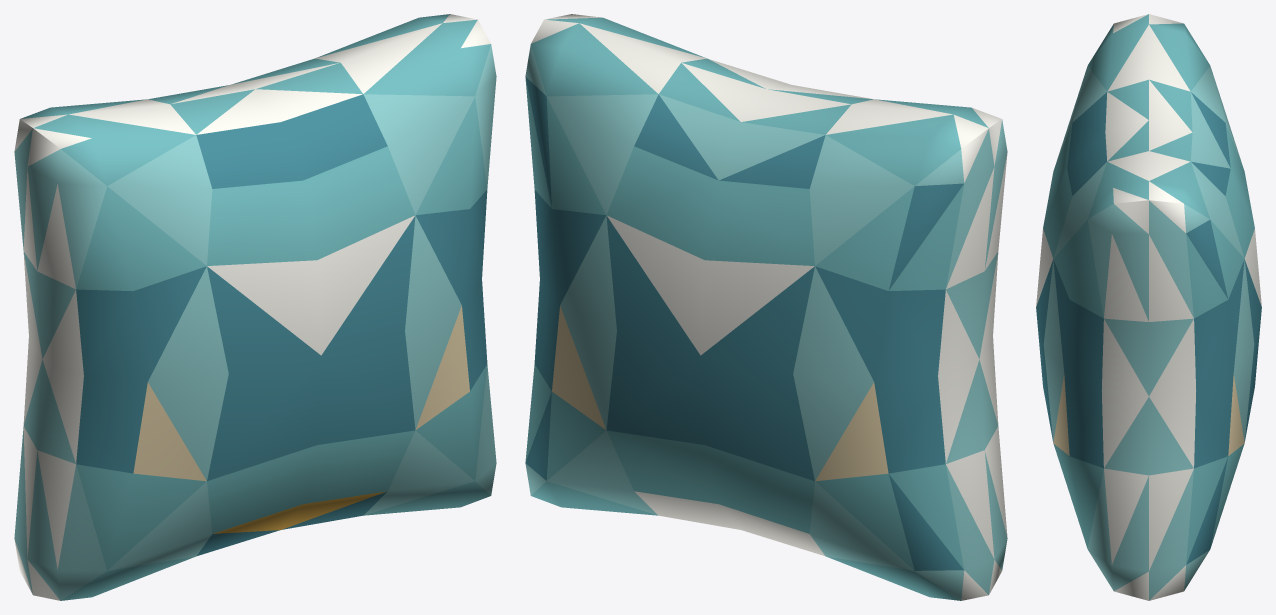
The model's file is itch_tiny_pleasant_picnic_pillow_large_blue.glb.
3 views of the same model, side by side, from view 1: azimuth 30°, elevation 25°; view 2: azimuth 150°, elevation 25°; view 3: azimuth 270°, elevation 25° (orthographic). The views are drawn at different scales.
Parts seen in each view (by area): view 1: pillow_large_blue; view 2: pillow_large_blue; view 3: pillow_large_blue.
Part boxes in pixels (x1,y1,x2,y2): pillow_large_blue: [14, 14, 496, 600]; pillow_large_blue: [525, 14, 1007, 600]; pillow_large_blue: [1036, 14, 1261, 600].
Bounding box in the file's own units: 0.96 × 0.96 × 0.48.
